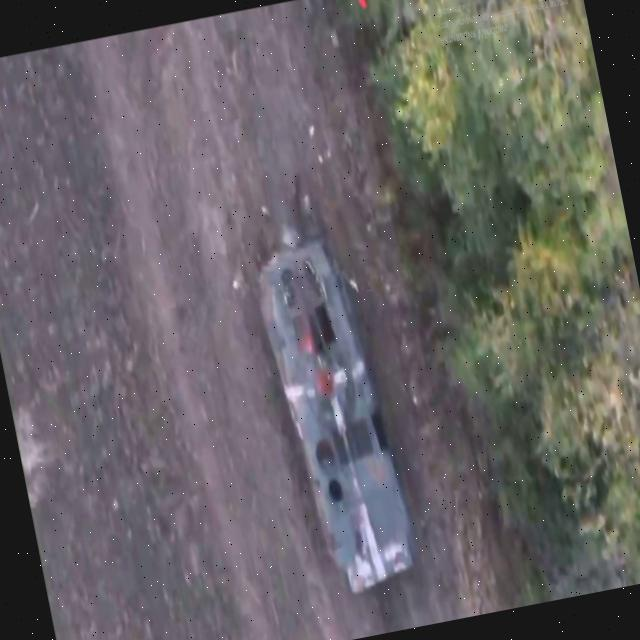AIFV: (229, 199, 434, 609)
